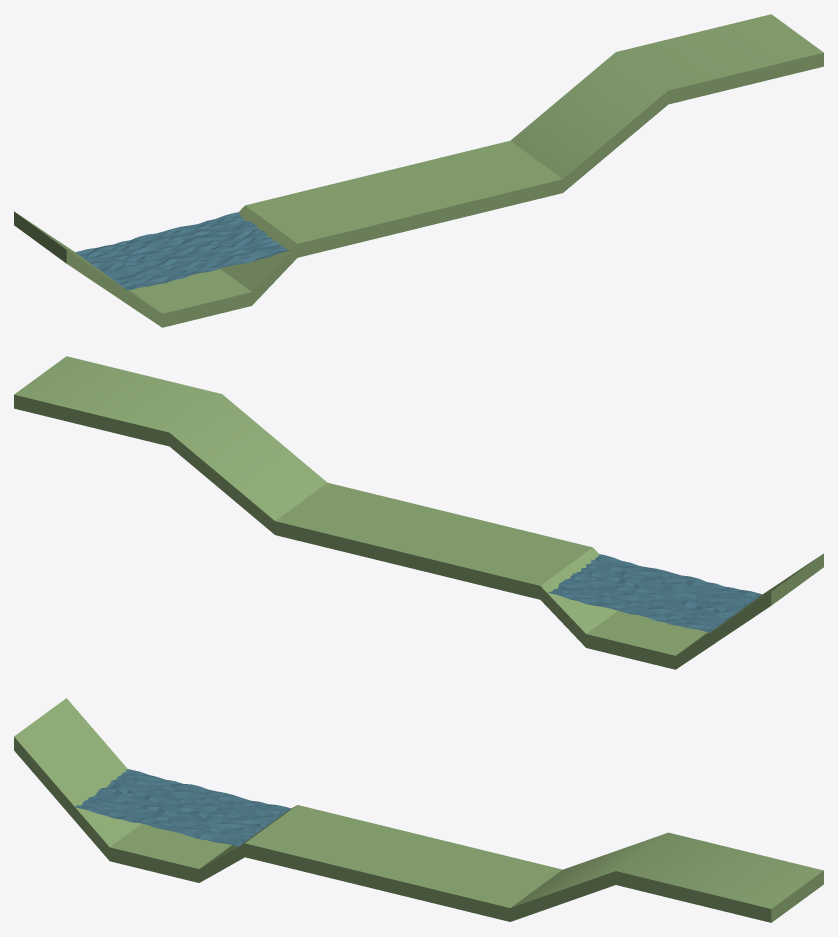
The model's file is SM_Landscape.fbx.
3 renders of one model, top to bottom at view 1: azimuth 30°, elevation 25°; view 2: azimuth 150°, elevation 25°; view 3: azimuth 330°, elevation 25°, orthographic.
Parts seen in each view (by area): view 1: Landscape; view 2: Landscape; view 3: Landscape.
Part boxes in pixels (x1,y1,x2,y2): Landscape: (14,14,823,327); Landscape: (14,356,823,669); Landscape: (14,698,823,922).
Bounding box in the file's own units: 7483 × 1074 × 900.
